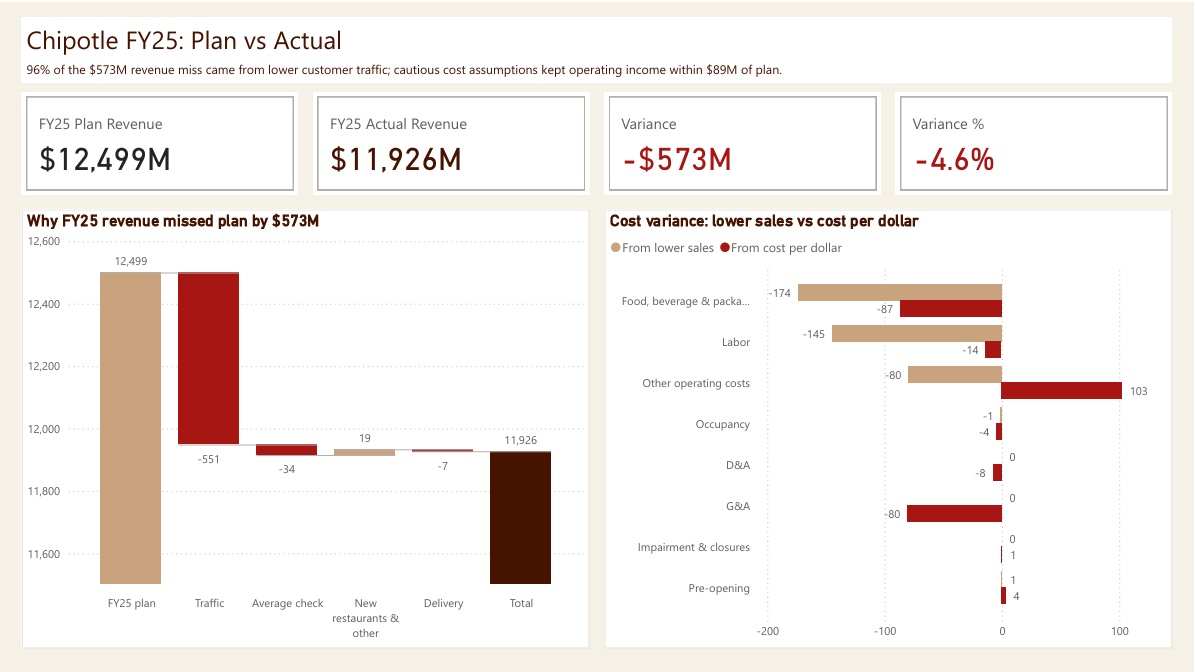

What the dashboard file says about the page in this screenshot:
{"tool":"powerbi","page":{"name":"FY25 Plan vs Actual","canvas":[1280,720],"ordinal":0},"visuals":[{"type":"cardVisual","fields":{"Data":["_Measures.Plan Rev Label"]},"box":[24,96,296,110],"z":0},{"type":"cardVisual","fields":{"Data":["_Measures.Actual Rev Label"]},"box":[336,96,296,110],"z":1000},{"type":"cardVisual","fields":{"Data":["_Measures.Variance Label"]},"box":[648,96,296,110],"z":2000},{"type":"cardVisual","fields":{"Data":["_Measures.Variance % Label"]},"box":[960,96,296,110],"z":3000},{"type":"waterfallChart","title":"Why FY25 revenue missed plan by $573M","fields":{"Category":["fact_bridge.Step"],"Y":["Sum(fact_bridge.Amount_M)"]},"box":[24,222,608,470],"z":4000},{"type":"clusteredBarChart","title":"Cost variance: lower sales vs cost per dollar","fields":{"Category":["fact_cost_variance.LineItem"],"Y":["Sum(fact_cost_variance.Volume_M)","Sum(fact_cost_variance.Rate_M)"]},"box":[648,222,608,470],"z":5000},{"type":"textbox","box":[24,16,1232,70],"z":6000},{"type":"textbox","box":[24,58,1232,28],"z":7000}]}

Visuals, with their boxes in screenshot pixels (x1, y1, x2, y2), scaled from the page's 1280x720 canvas onto the 1195x672 screenshot:
cardVisual - _Measures.Plan Rev Label: 22 90 299 192
cardVisual - _Measures.Actual Rev Label: 314 90 590 192
cardVisual - _Measures.Variance Label: 605 90 881 192
cardVisual - _Measures.Variance % Label: 896 90 1173 192
"Why FY25 revenue missed plan by $573M" waterfallChart: 22 207 590 646
"Cost variance: lower sales vs cost per dollar" clusteredBarChart: 605 207 1173 646
textbox: 22 15 1173 80
textbox: 22 54 1173 80
